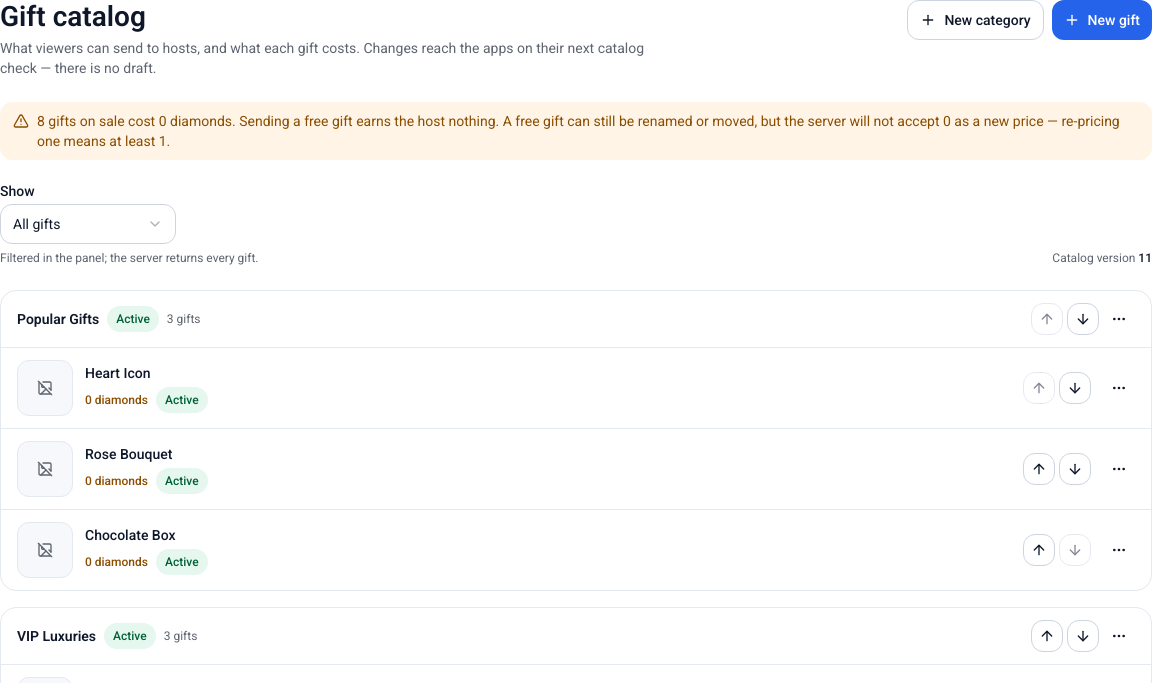
Test: creating a gift › will not create a gift without a file
Click the button "New gift": (1102, 20) [1052, 0, 1151, 40]
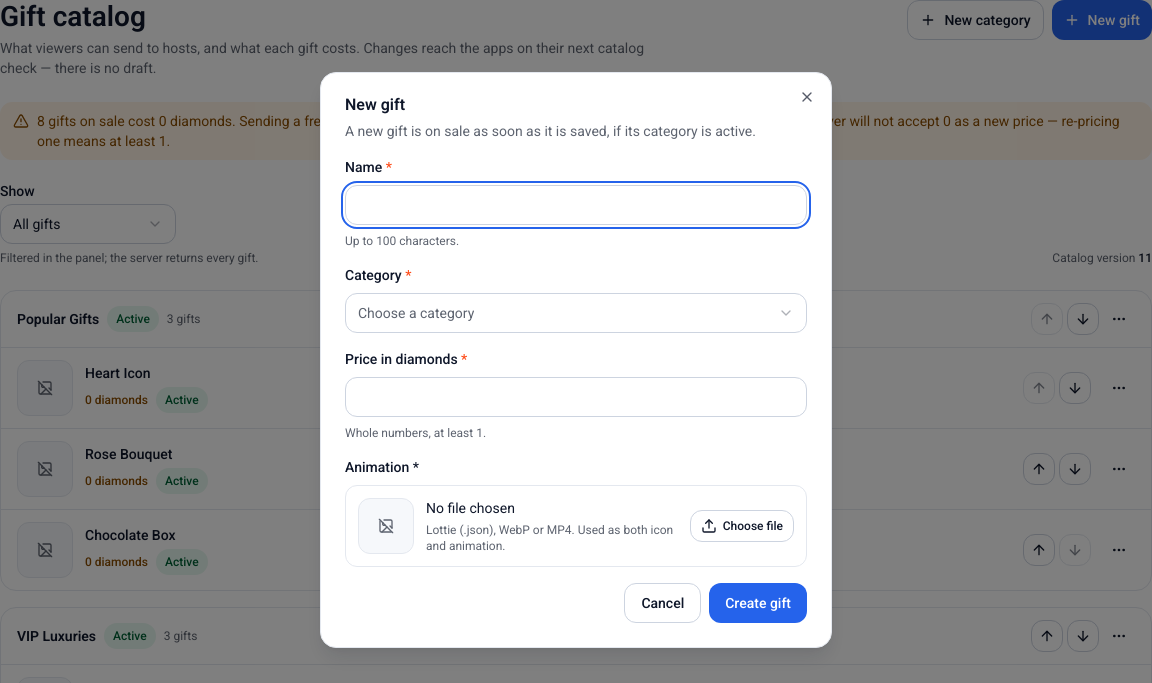
In the field labelled "Name *": (576, 205) [345, 185, 807, 225], type "Golden Rose"
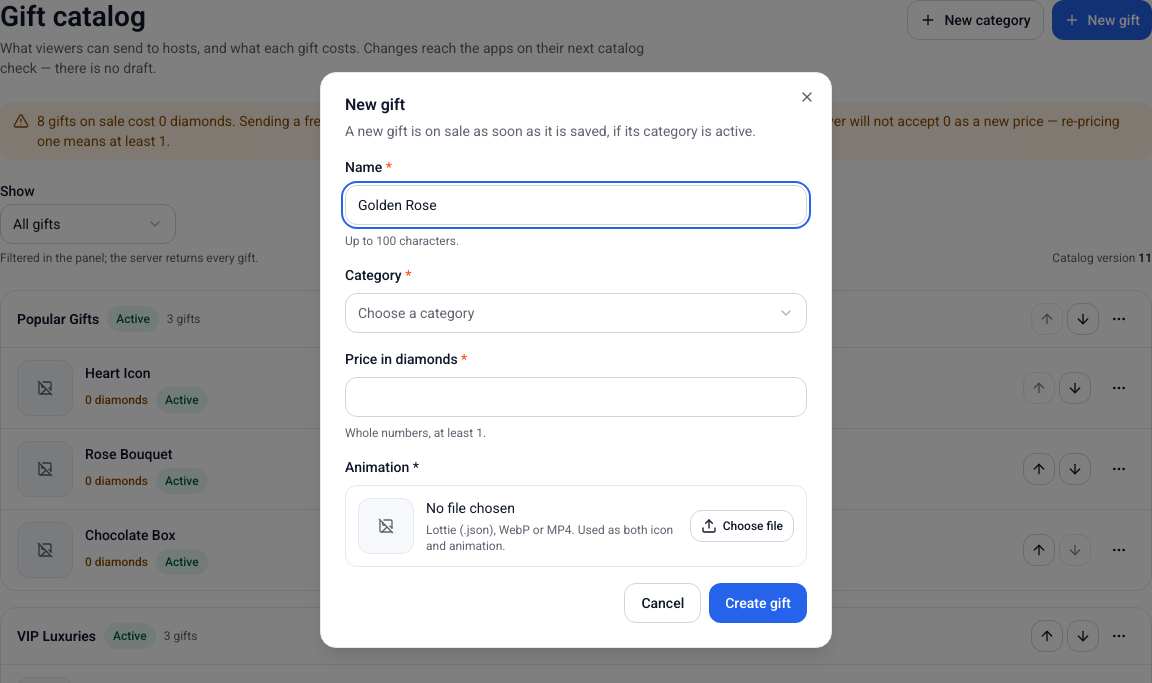
Click the dropdown labelled "Choose a category": (416, 313) [345, 293, 807, 333]
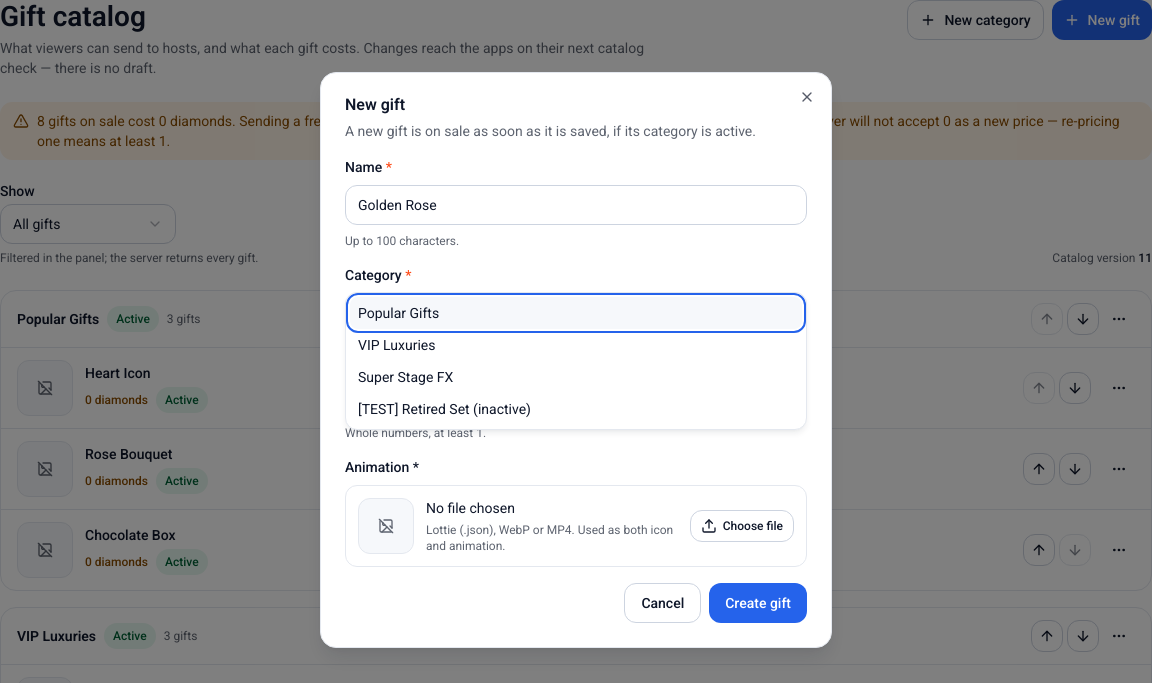
Click the option "VIP Luxuries": (397, 345) [358, 337, 436, 353]
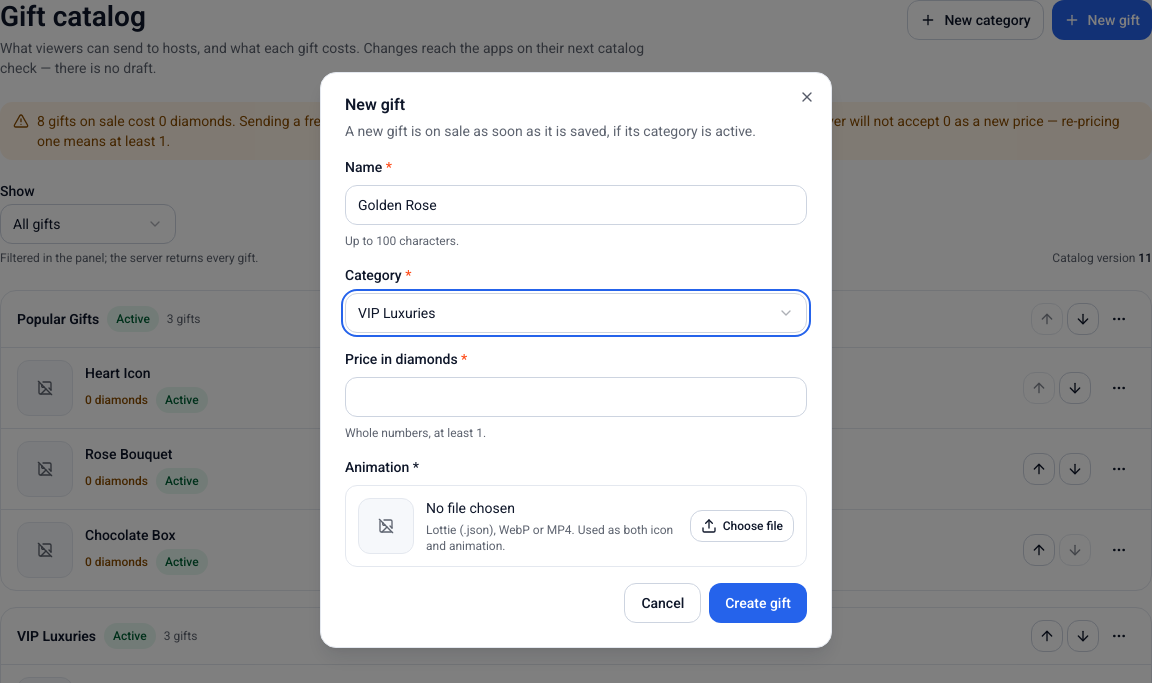
In the field labelled "Price in diamonds *": (576, 397) [345, 377, 807, 417], type "5"
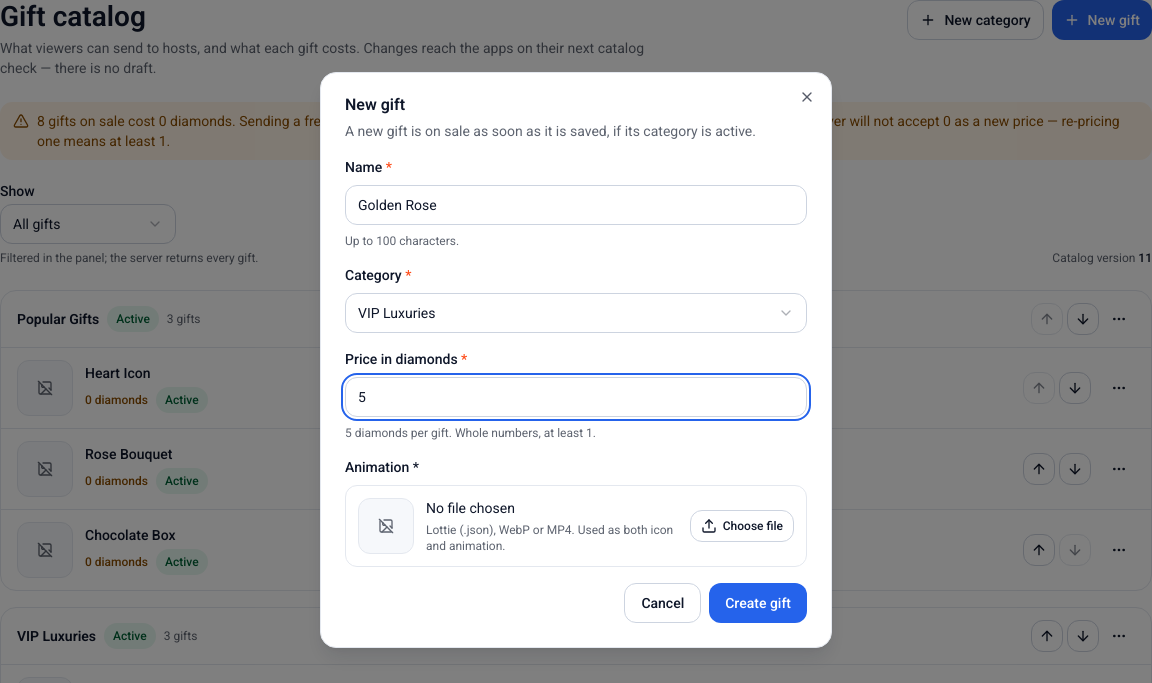
Click the button "Create gift": (758, 603) [709, 583, 807, 623]
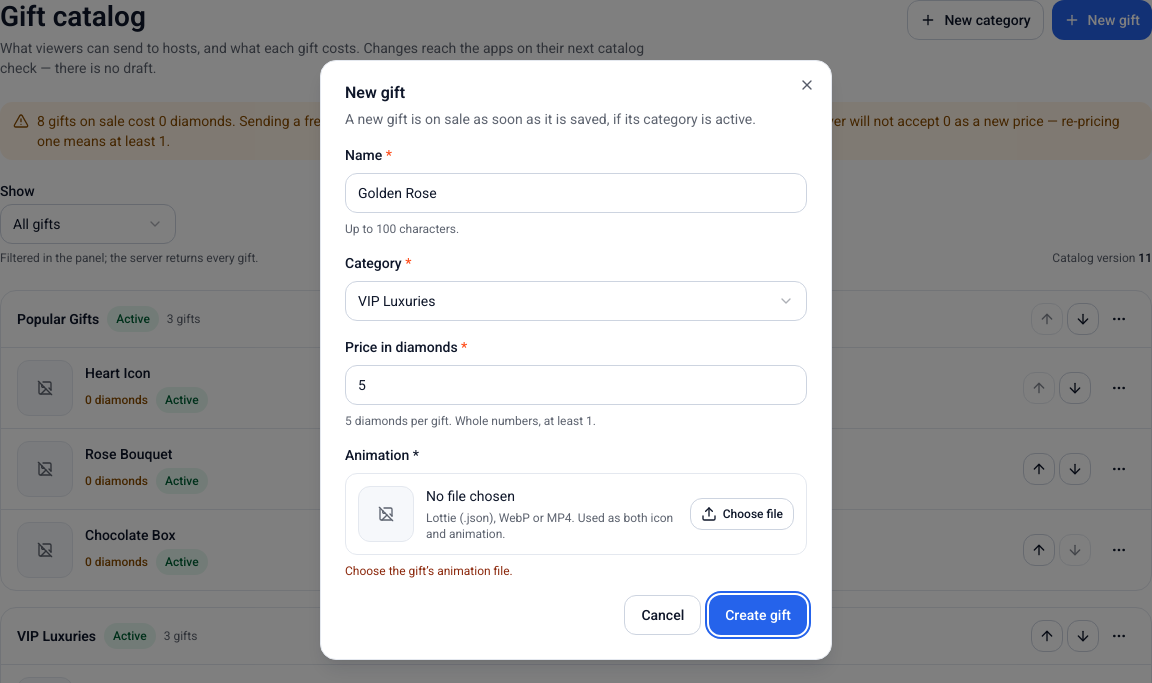
Now the text "Choose the gift’s animation file." is shown, box [345, 564, 513, 578]
